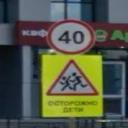speed_limit_40: (43, 18, 99, 55)
